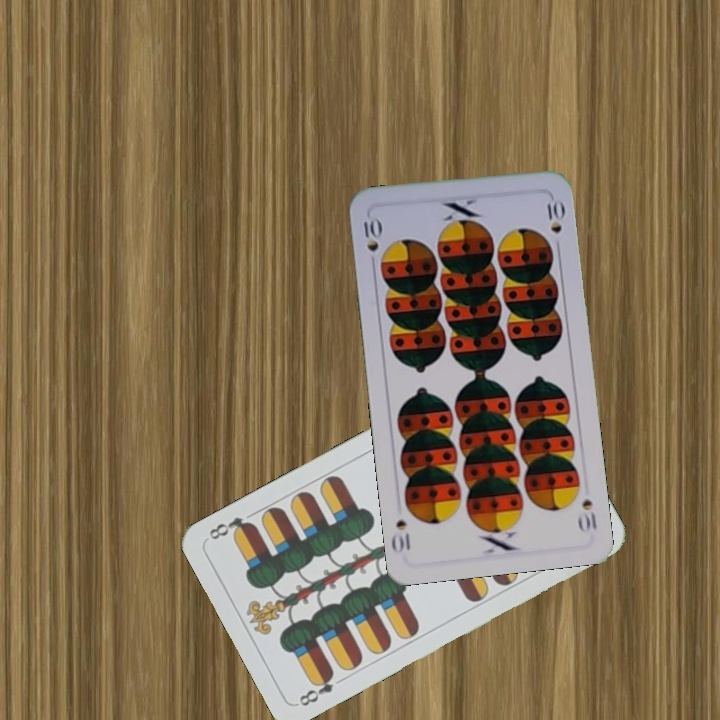E8: (294, 667, 337, 709)
S10: (358, 212, 384, 271), (574, 494, 599, 535)
